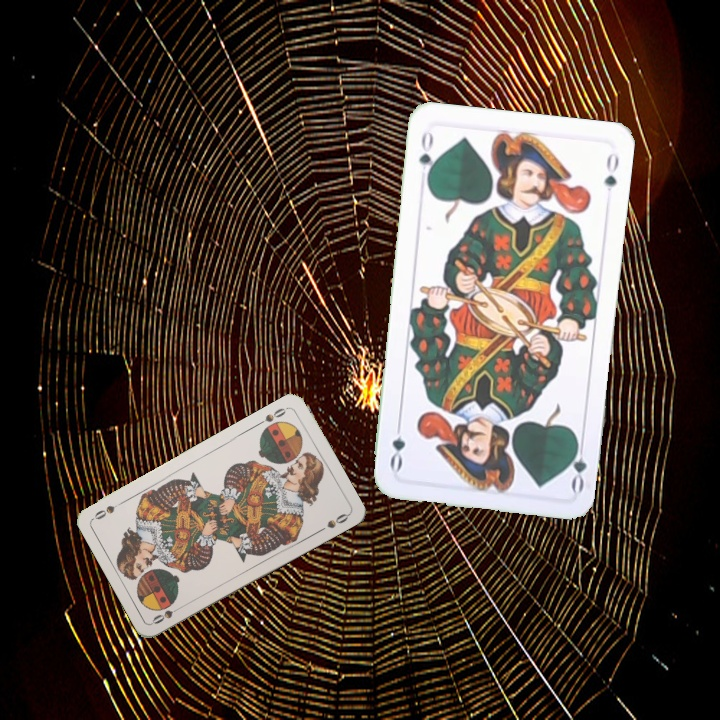GO: (564, 434, 589, 494), (414, 127, 438, 186)
SO: (148, 601, 186, 627), (254, 403, 291, 428)
